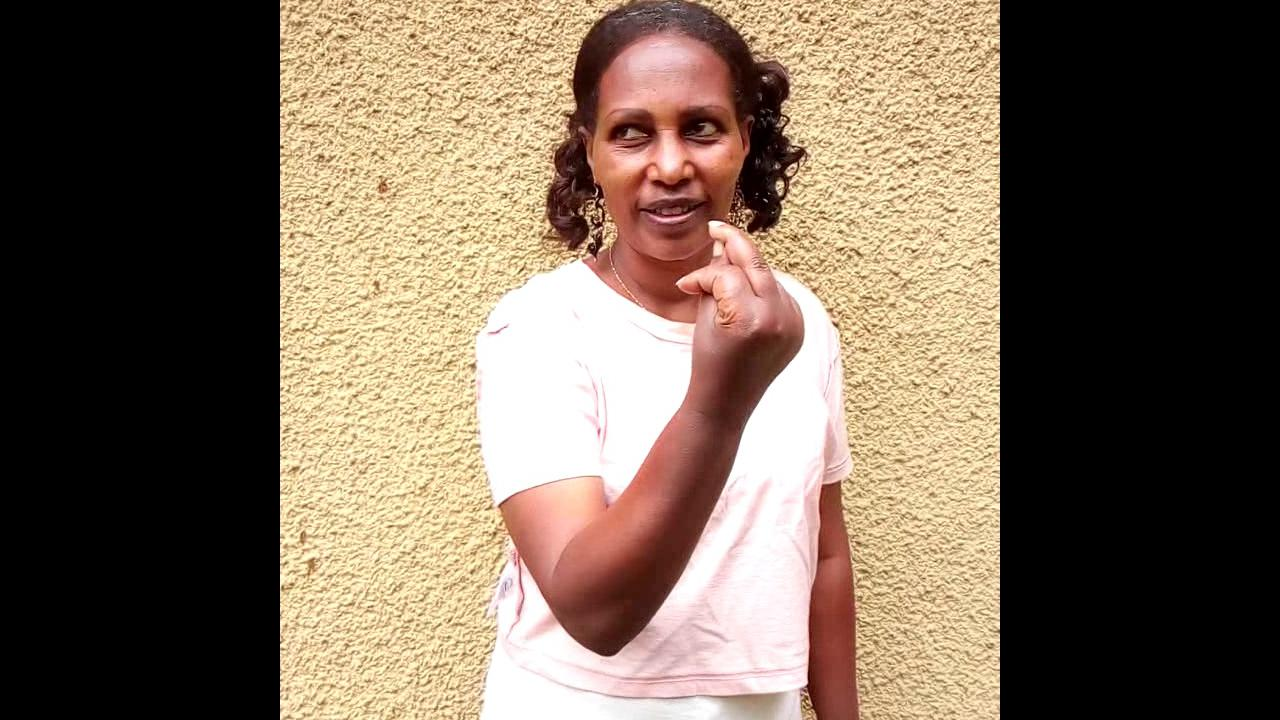CHE: (673, 222, 807, 498)
